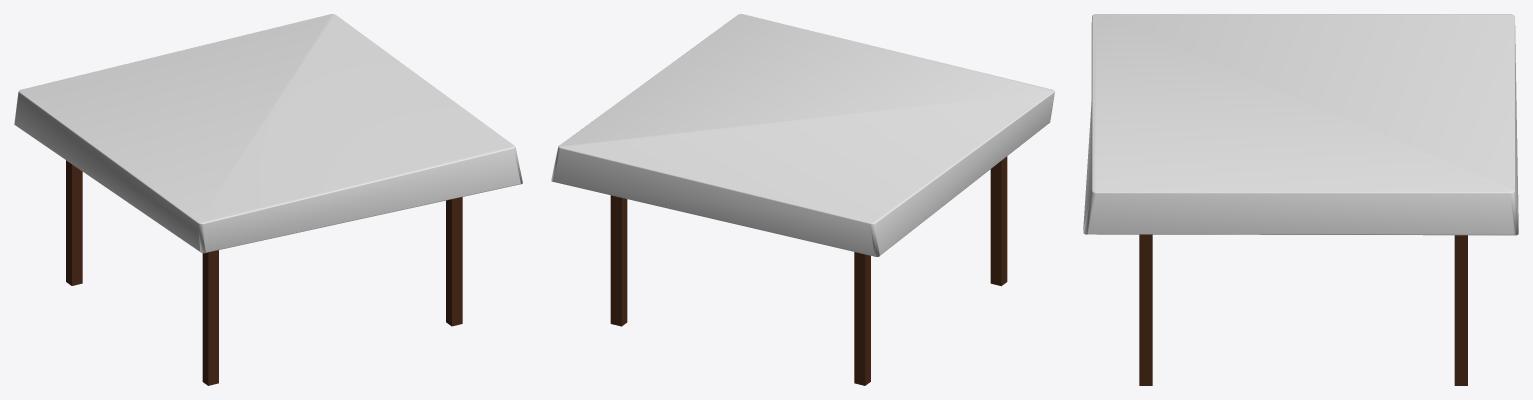
File: Table.fbx
3 views of the same model, side by side, from view 1: azimuth 30°, elevation 25°; view 2: azimuth 150°, elevation 25°; view 3: azimuth 270°, elevation 25° (orthographic). The views are drawn at different scales.
Visible parts, largest first — view 1: TableCloth, Table; view 2: TableCloth, Table; view 3: TableCloth, Table.
Part boxes in pixels (x1=…): TableCloth: x1=14, y1=14, x2=522, y2=253; Table: x1=66, y1=160, x2=462, y2=385; TableCloth: x1=551, y1=14, x2=1054, y2=256; Table: x1=610, y1=156, x2=1007, y2=385; TableCloth: x1=1083, y1=14, x2=1518, y2=235; Table: x1=1139, y1=234, x2=1467, y2=385.
Bounding box in the file's own units: 602 × 323 × 601.
